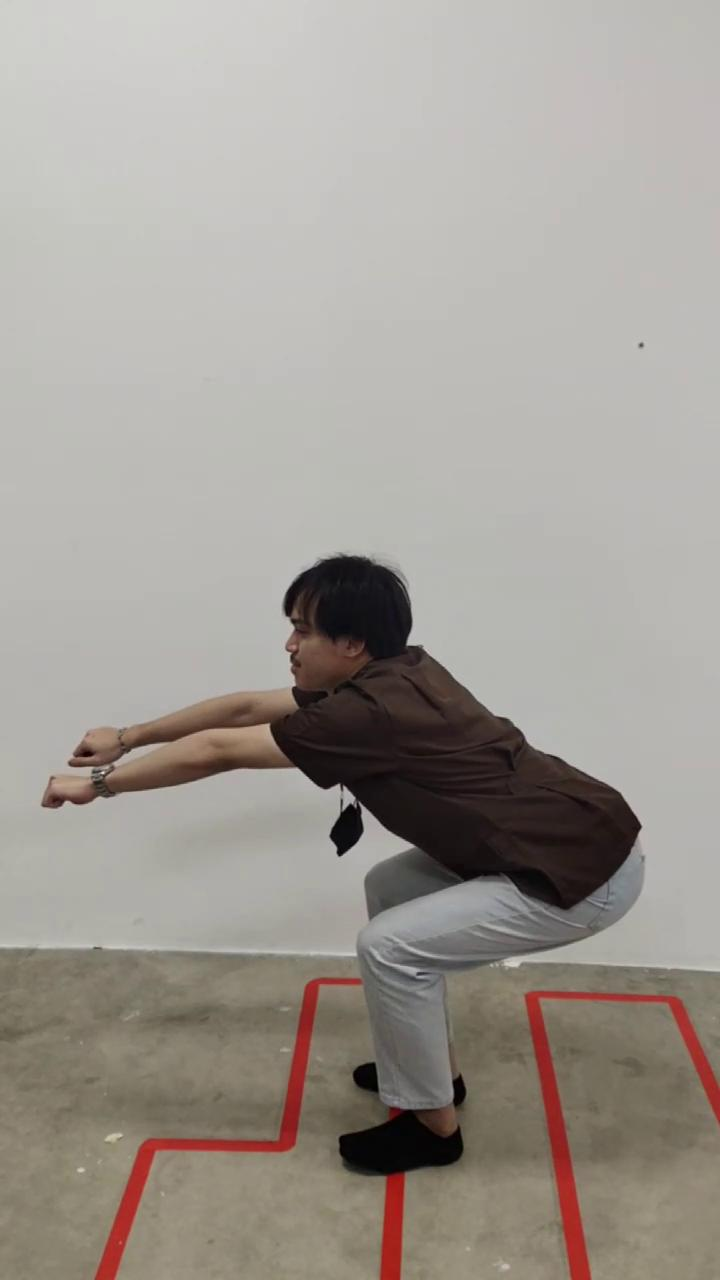squat down: (42, 555, 645, 1175)
